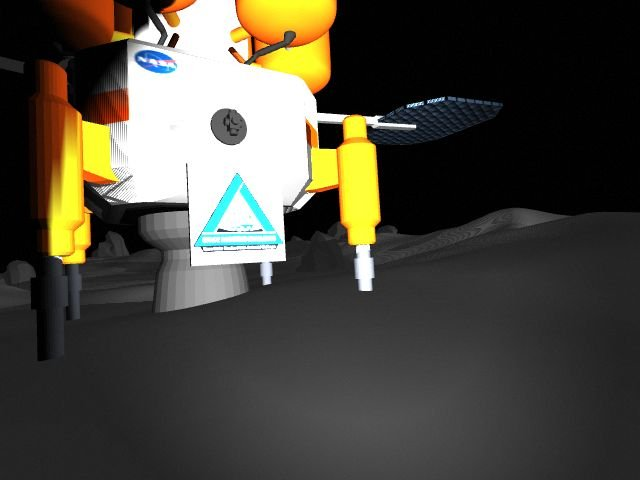basemarker: (193, 173, 285, 255)
